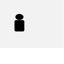human: (12, 11, 27, 34)
